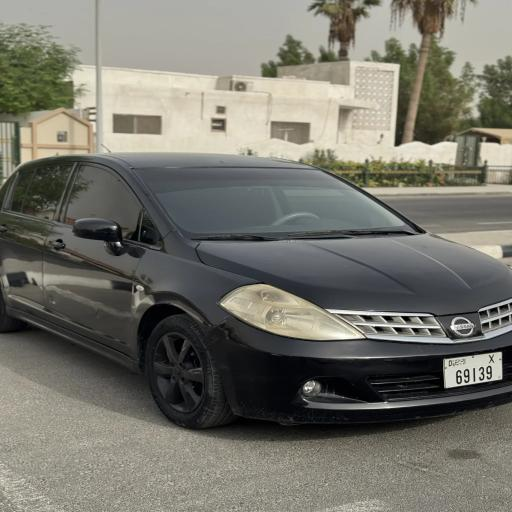license-plates: (443, 352, 502, 388)
